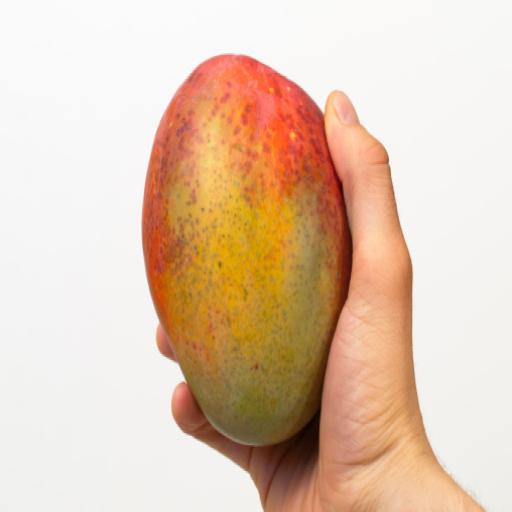mango: (143, 55, 351, 445)
